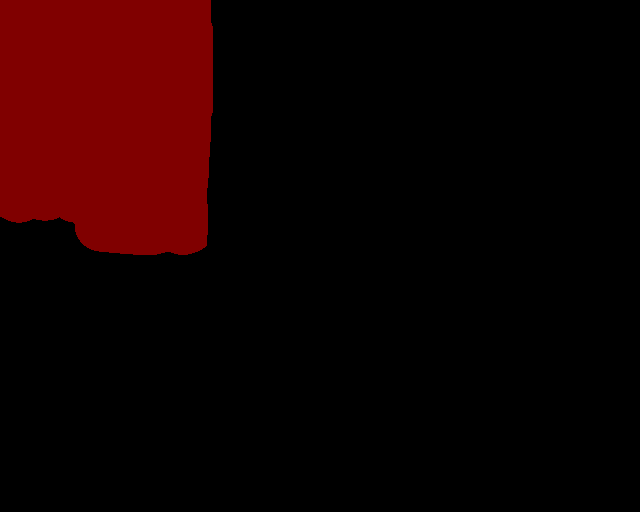Sky: (1, 1, 213, 255)
